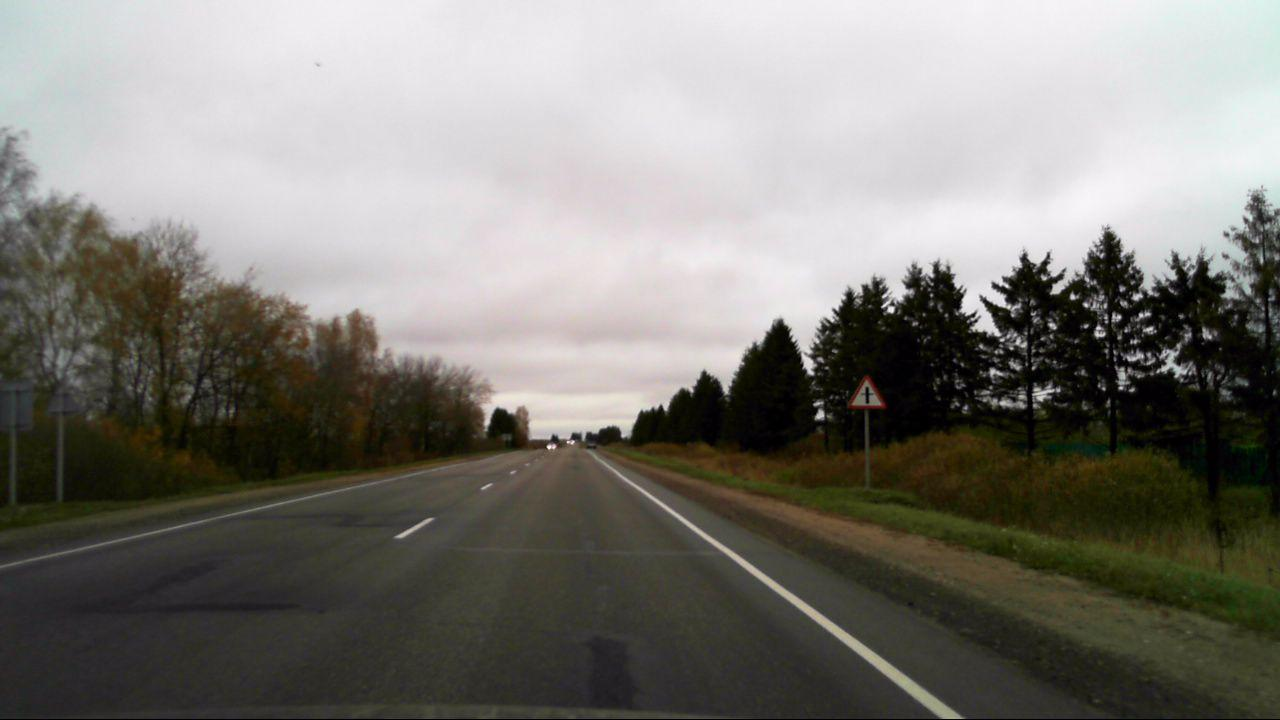2_3_1: (846, 375, 888, 410)
